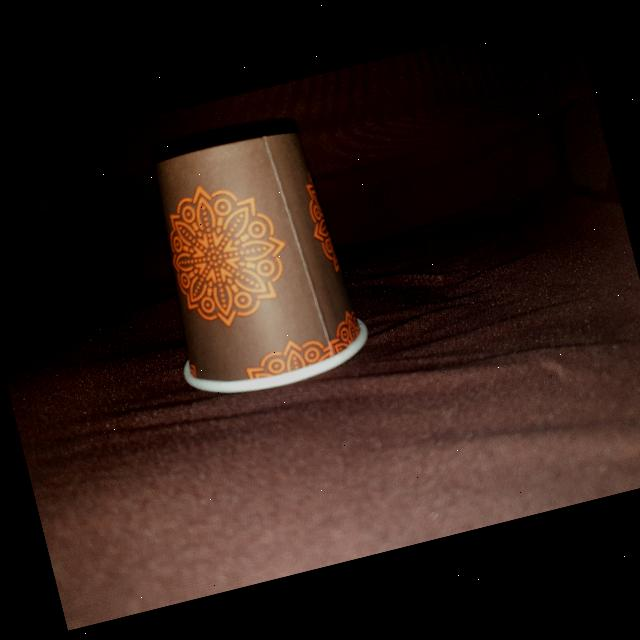trash: (127, 113, 377, 410)
